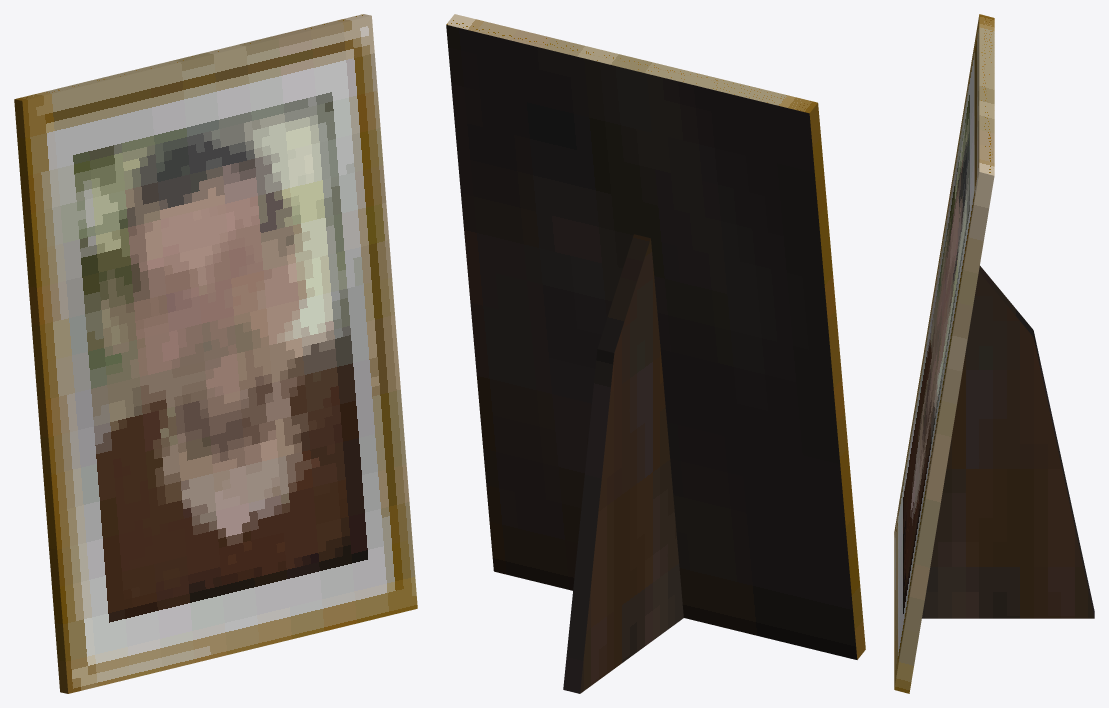
Rendered from medphoto1.fbx.
3 views of the same model, side by side, from view 1: azimuth 30°, elevation 25°; view 2: azimuth 150°, elevation 25°; view 3: azimuth 270°, elevation 25° (orthographic). The views are drawn at different scales.
Visible parts, largest first — view 1: mesh_0; view 2: mesh_0; view 3: mesh_0.
Part boxes in pixels (box(x1,y1,x2,y2)): mesh_0: box(14, 14, 417, 693); mesh_0: box(446, 14, 865, 693); mesh_0: box(894, 14, 1094, 693).
Bounding box in the file's own units: 32.05 × 49.41 × 17.18.
Materials: 1 (1 with a texture image).
